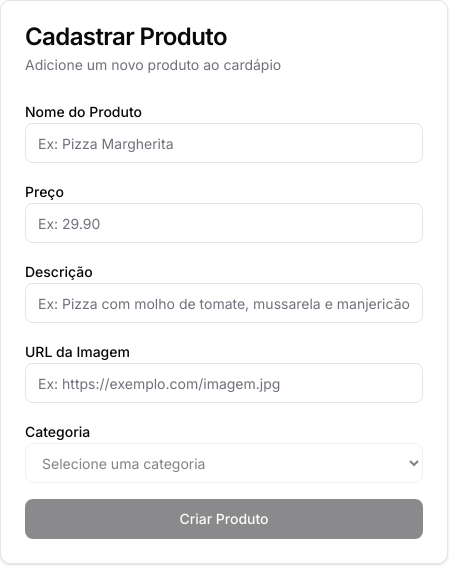
Test: RF03 - Funcionalidade de Gerenciamento de Produtos › Cenário 4: Estado de loading › deve desabilitar campos durante criação
The image size is (465, 582).
Expected: the button "Criar Produto" is shown, [25, 499, 423, 539]
Type "Produto Teste" into the field labelled "Nome do Produto" at x=224, y=143, box [25, 123, 423, 163]
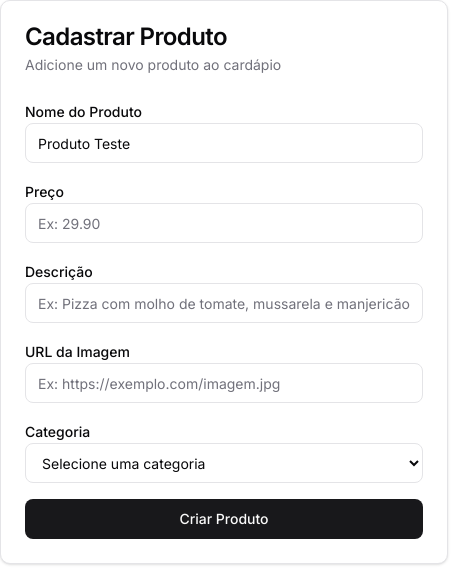
Type "10.00" into the field labelled "Preço" at x=224, y=223, box [25, 203, 423, 243]
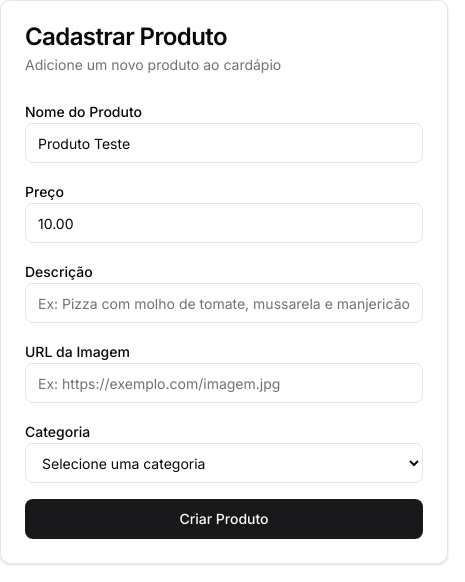
Type "Descrição" into the field labelled "Descrição" at x=224, y=303, box [25, 283, 423, 323]
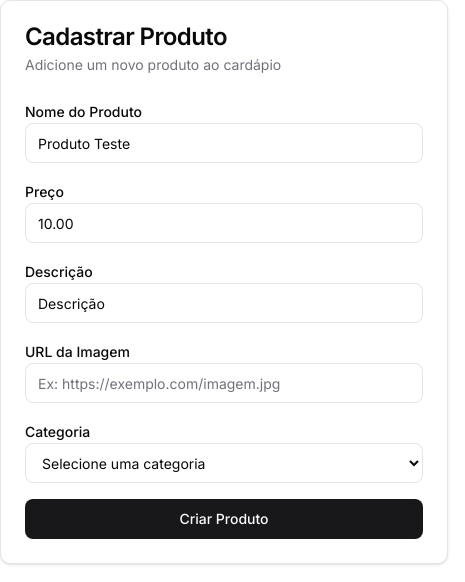
Select "Bebidas" in the dropdown labelled "Categoria" at x=224, y=463, box [25, 443, 423, 483]
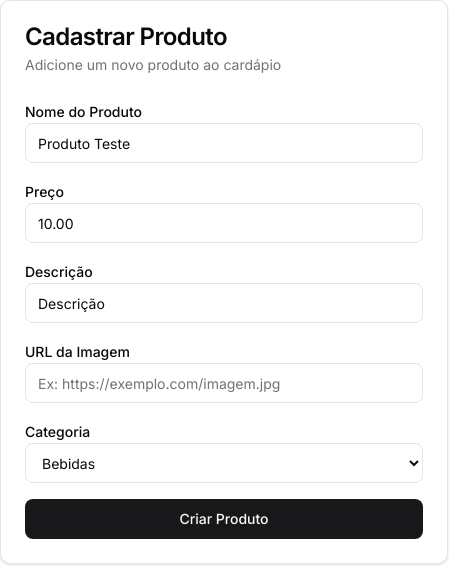
Click the button "Criar Produto" at x=224, y=519, box [25, 499, 423, 539]
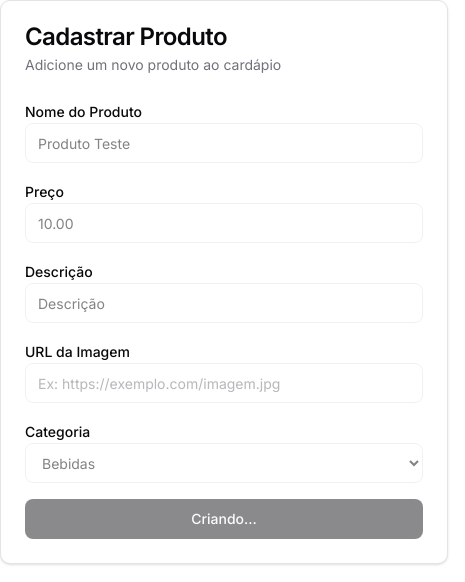
Expected: the button named "criar produto" is disabled, [25, 499, 423, 539]
Expected: the field labelled "Nome do Produto" is disabled, [25, 123, 423, 163]
Expected: the field labelled "Preço" is disabled, [25, 203, 423, 243]
